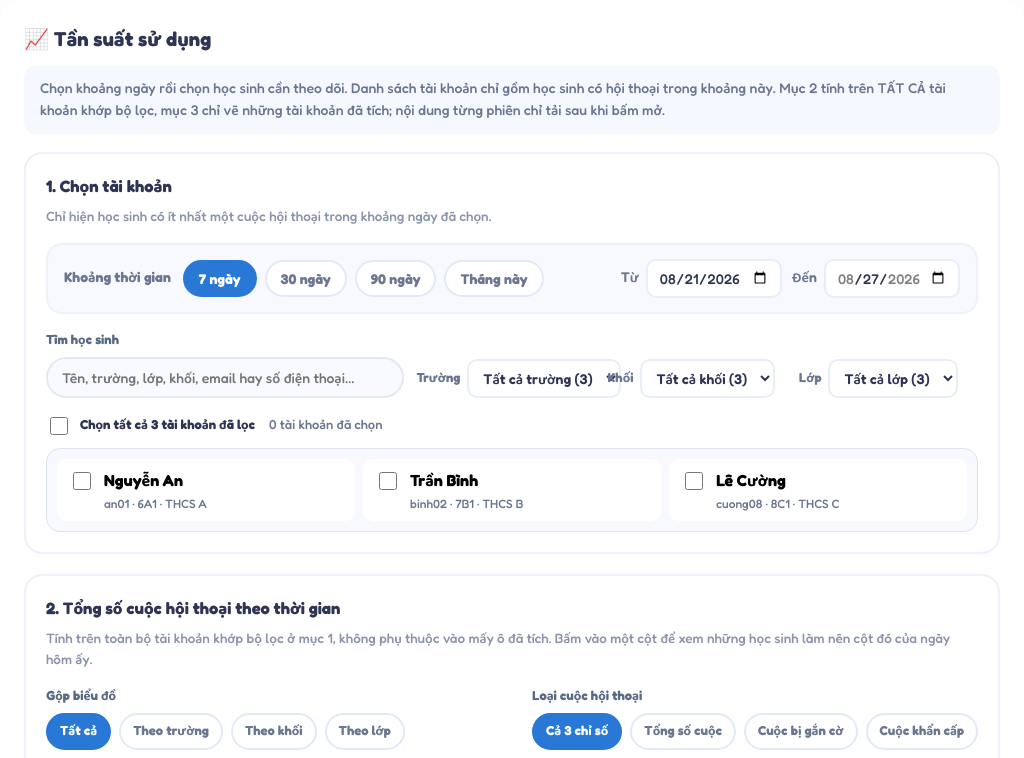
Test: biểu đồ và hội thoại của cùng một tài khoản nằm chung một hàng
The width and height of the screenshot is (1024, 758).
What coordinates should you click on to do the following:
click the checkbox labelled "Chọn tất cả 3 tài khoản đã lọc"
I would click on:
 (59, 426)
Its box is [50,417,68,435].
(page scrolled)
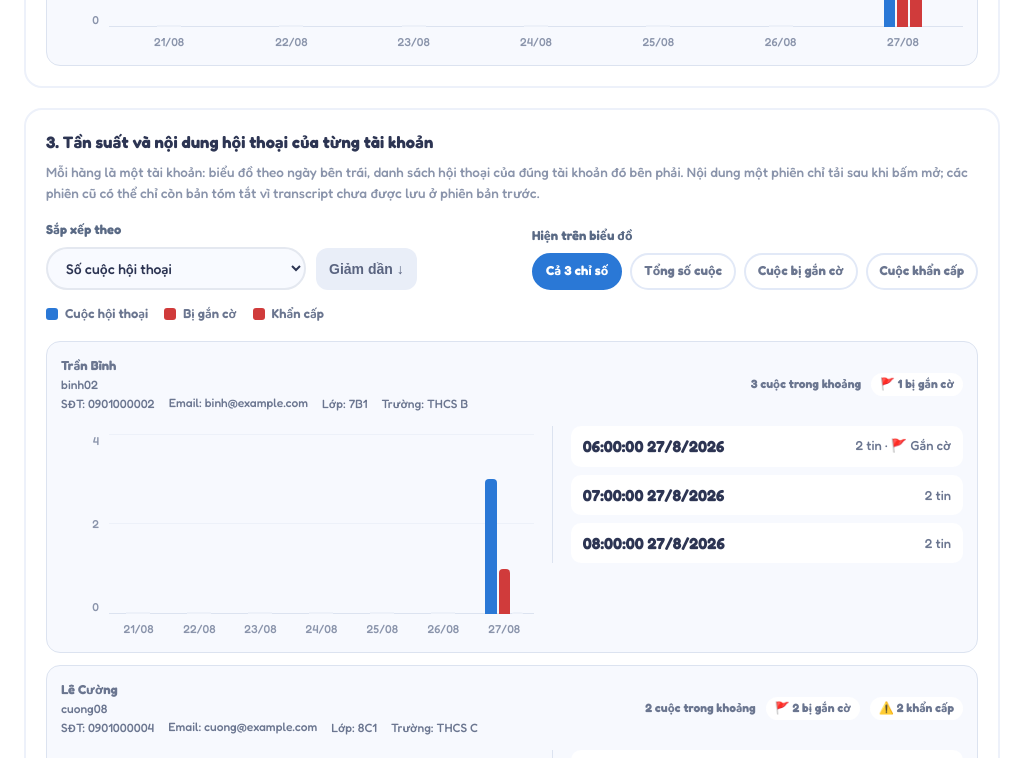
Check: the element named "Tần suất của Trần Bình" is shown, box [61,426,534,638]
Check: the number of buttons "06:00:00 27/8/2026 2 tin · 🚩 Gắn cờ" is 3, box [583,436,951,457]; [583,485,951,505]; [583,533,951,553]
Check: the text "3 cuộc trong khoảng" is shown, box [751,375,861,394]
